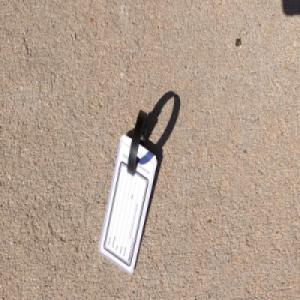LuggageTag: (98, 106, 158, 275)
